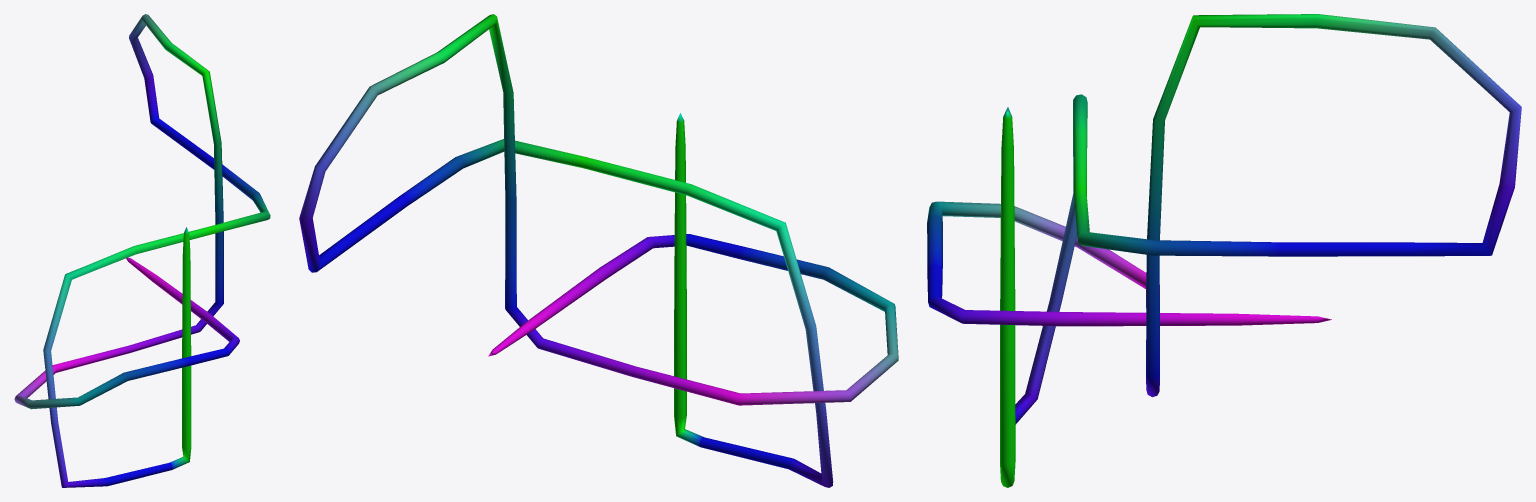
The picture shows the model from 3 angles, left to right: view 1: azimuth 30°, elevation 25°; view 2: azimuth 150°, elevation 25°; view 3: azimuth 270°, elevation 25°; orthographic projection. The views are drawn at different scales.
Parts seen in each view (by area): view 1: Line_Object; view 2: Line_Object; view 3: Line_Object.
Boxes of the visible parts, x1,y1,x2,y2 form: Line_Object: (14,14,270,487); Line_Object: (299,14,898,487); Line_Object: (927,14,1521,487).
Size of the model in its own units: 71.66 by 82.03 by 81.86.
